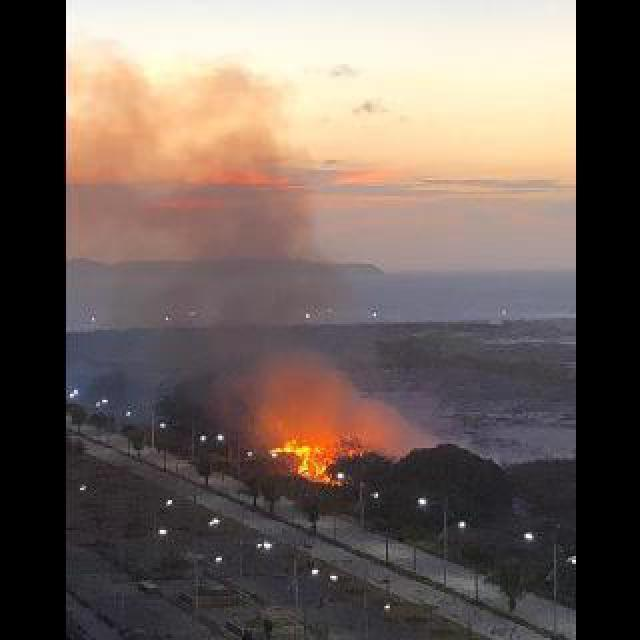Fire: (250, 412, 354, 486)
Smoke: (65, 36, 369, 410)
